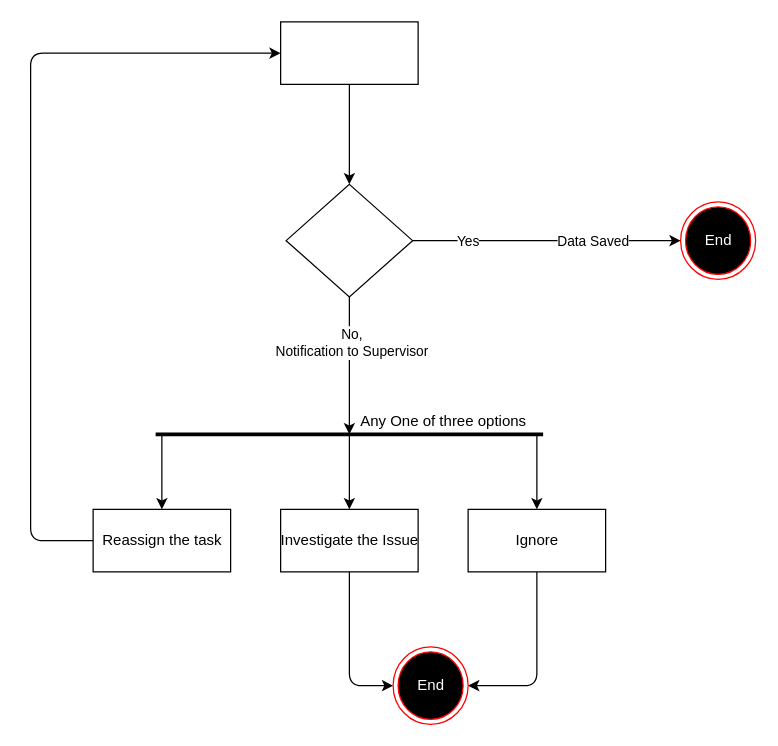
Image size: 778x746. Some labels were removed from this diagram. Each missing label, with the centre of its shape:
Cheklist Completed on time: the point at 349,240
Machine wise Checklist assigned to a person: the point at 348,52
